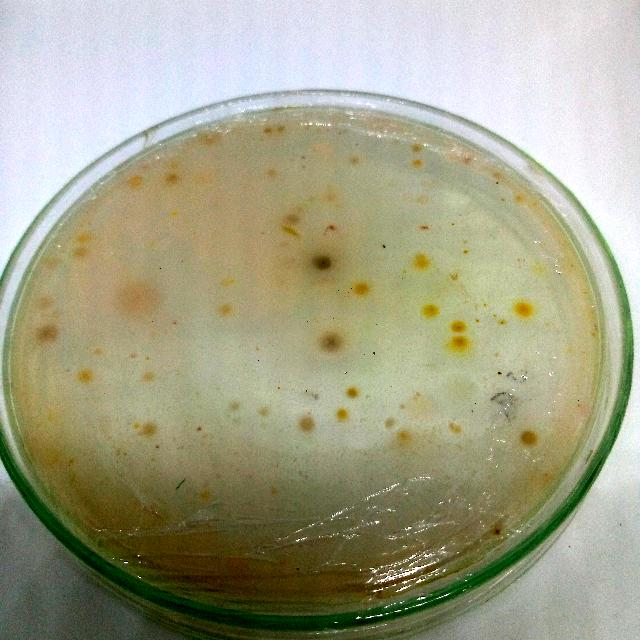colony: (110, 273, 163, 321), (316, 328, 344, 358), (308, 250, 338, 276), (32, 323, 62, 349), (195, 125, 221, 149), (121, 170, 147, 193), (292, 412, 318, 434), (512, 299, 536, 321), (410, 251, 432, 273), (520, 428, 542, 450), (43, 252, 65, 274), (216, 273, 238, 295), (159, 168, 183, 188), (216, 302, 240, 322), (352, 276, 372, 298), (344, 384, 364, 404), (450, 334, 470, 352), (331, 405, 351, 423), (76, 366, 96, 384), (70, 244, 90, 262), (320, 188, 340, 206), (423, 302, 441, 320), (394, 428, 412, 446), (140, 368, 158, 386), (448, 318, 468, 334), (282, 211, 302, 227), (73, 231, 93, 247), (254, 402, 272, 418), (416, 219, 432, 235), (226, 398, 242, 414), (142, 419, 158, 435), (382, 415, 398, 431), (195, 486, 211, 502), (510, 190, 526, 206), (282, 224, 300, 238), (266, 165, 280, 182), (346, 152, 362, 166), (325, 222, 341, 236), (412, 154, 424, 170), (274, 122, 290, 134), (410, 142, 424, 154), (262, 122, 274, 136), (490, 168, 504, 180), (461, 151, 474, 163), (496, 316, 508, 328), (492, 526, 504, 538), (448, 270, 460, 282), (127, 350, 139, 360), (310, 392, 322, 402), (461, 247, 472, 257), (91, 348, 102, 358), (398, 401, 408, 412), (369, 349, 381, 358), (448, 218, 458, 228), (453, 425, 462, 435), (298, 162, 308, 170), (496, 368, 504, 378), (448, 421, 458, 429), (276, 383, 284, 392), (482, 302, 490, 310), (380, 243, 388, 251), (415, 390, 421, 398), (490, 312, 498, 318), (474, 317, 480, 323), (402, 268, 408, 274)
